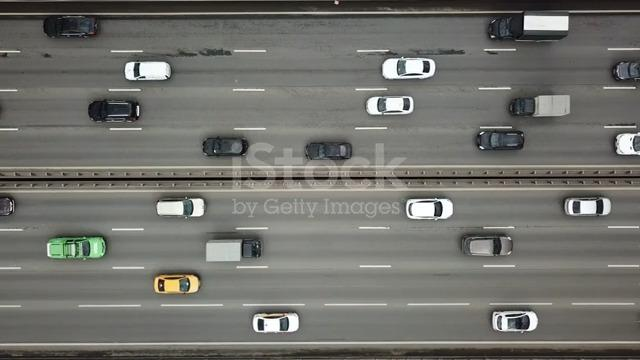Cars: (47, 236, 107, 260), (382, 57, 436, 81), (44, 16, 99, 39), (88, 100, 140, 123), (154, 273, 202, 295), (476, 130, 525, 151), (125, 61, 172, 82), (366, 96, 415, 116), (203, 136, 249, 157), (564, 197, 612, 217), (305, 142, 353, 161), (615, 132, 640, 156), (612, 61, 640, 82)
